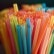plastic: (25, 20, 32, 54)
